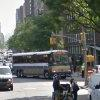Bus: (9, 50, 71, 79)
